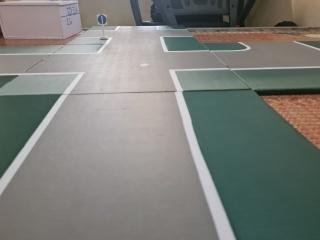straight: (95, 11, 109, 29)
